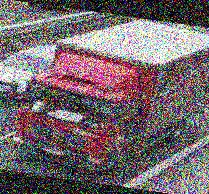truck: (11, 4, 209, 188)
